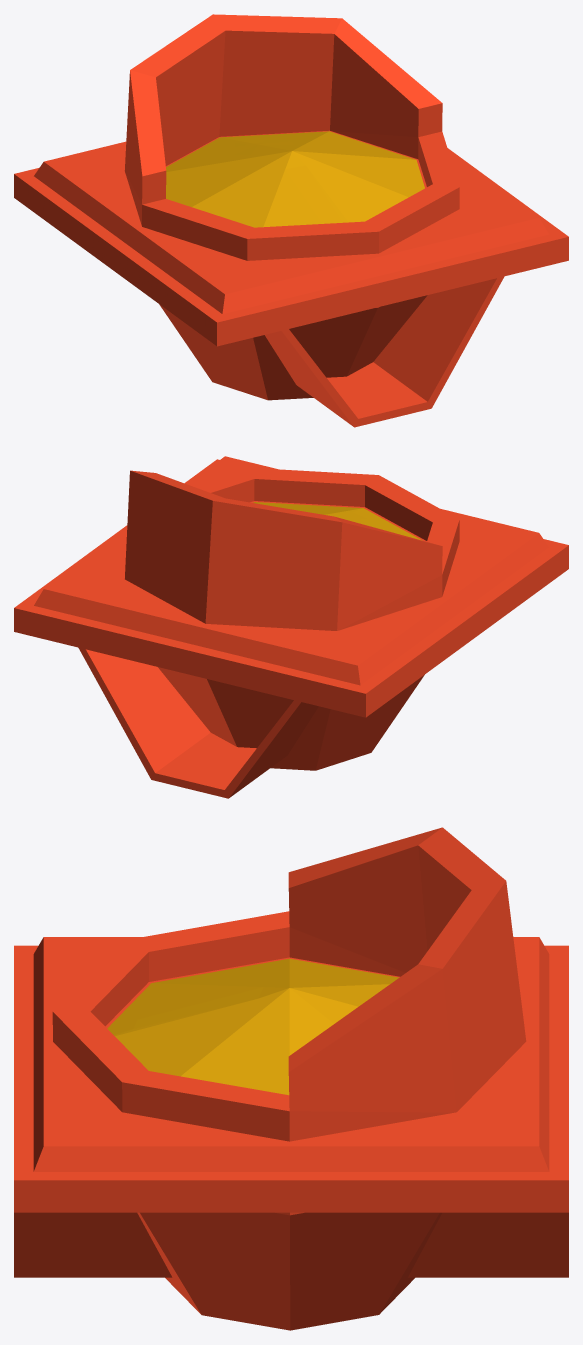
Rendered from SM_Traffic_Light_Simple_D_City.fbx.
3 renders of one model, top to bottom at view 1: azimuth 30°, elevation 25°; view 2: azimuth 150°, elevation 25°; view 3: azimuth 270°, elevation 25°, orthographic. The views are drawn at different scales.
Parts seen in each view (by area): view 1: SM_Traffic_Light_Simple_D_City; view 2: SM_Traffic_Light_Simple_D_City; view 3: SM_Traffic_Light_Simple_D_City.
Boxes of the visible parts, <box> form: SM_Traffic_Light_Simple_D_City: <box>14,14,568,427</box>; SM_Traffic_Light_Simple_D_City: <box>14,456,568,798</box>; SM_Traffic_Light_Simple_D_City: <box>14,827,568,1330</box>.
Bounding box in the file's own units: 0.4246 × 0.3351 × 0.4246.
